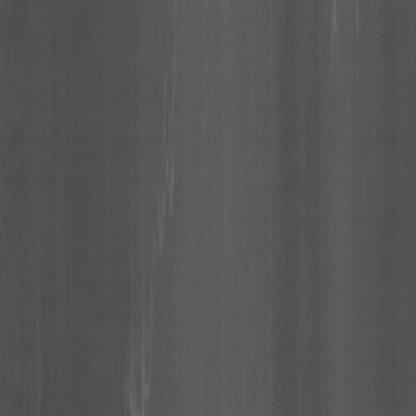silk_spot: (145, 88, 185, 264)
